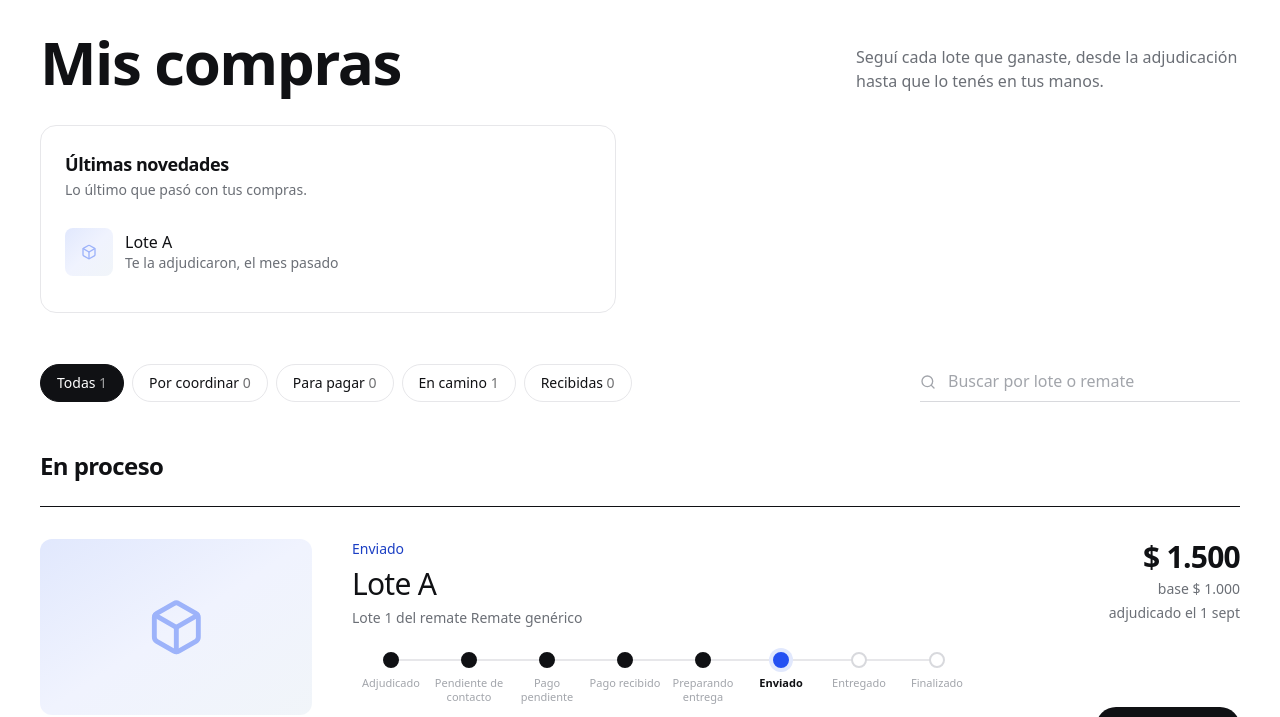
Test: MisComprasPage › si la búsqueda no matchea nada, muestra el estado vacío con opción de limpiar
Step 1. Type "no existe" into the search field named "Buscar en mis compras" → (1080, 382), box [920,361,1240,402]
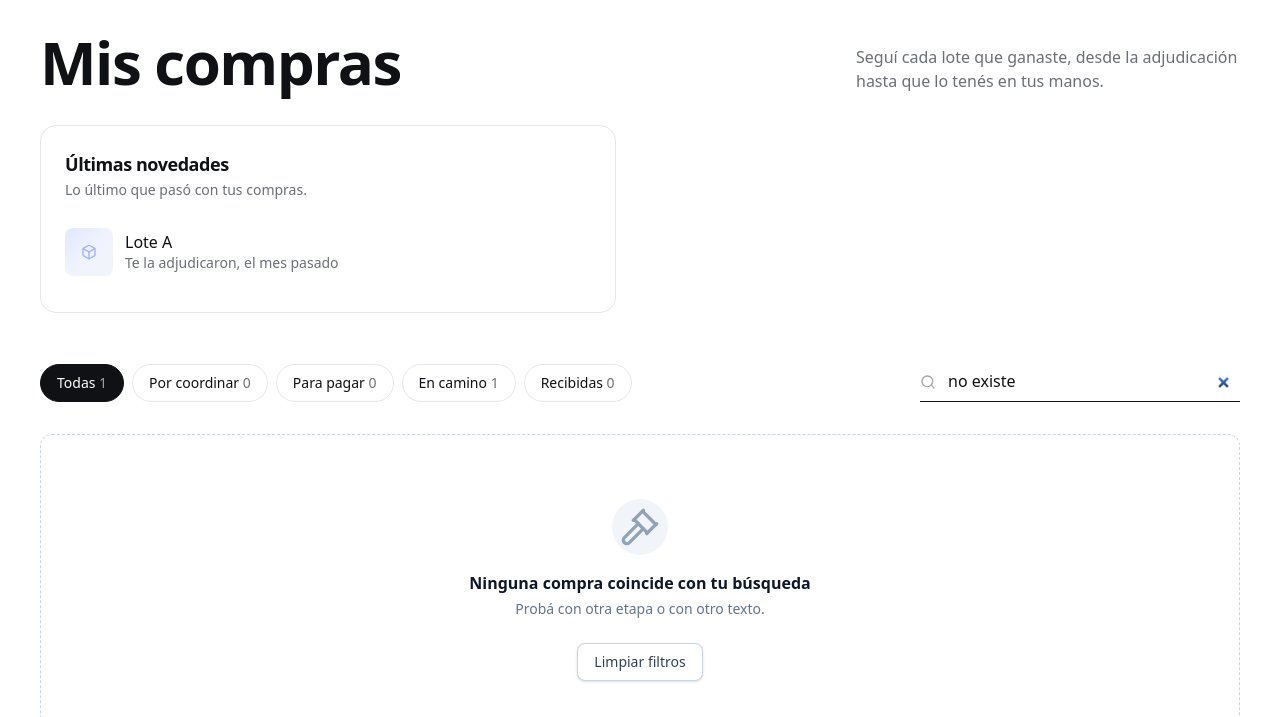
expect the heading "Ninguna compra coincide con tu búsqueda" is shown: met, box [469,571,811,595]
Step 2. Click the button "Limpiar filtros" → (640, 662), box [577,643,703,681]
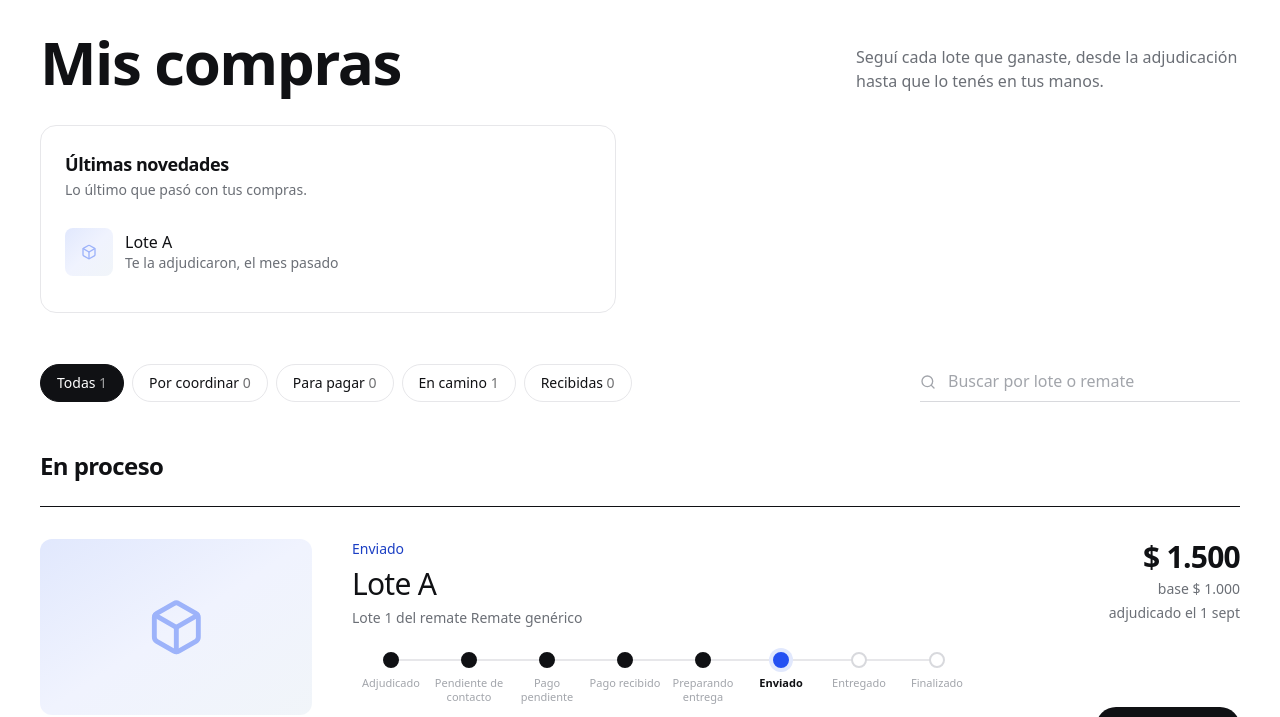
expect the heading "Lote A" is shown: met, box [352,563,436,604]
